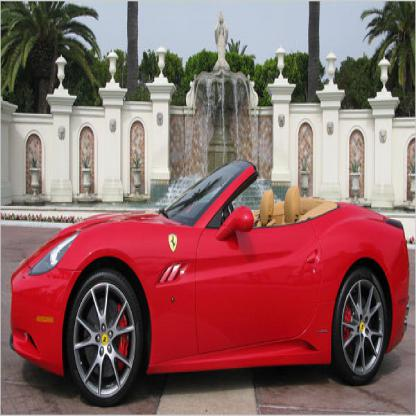Vehicle: (9, 162, 410, 408)
